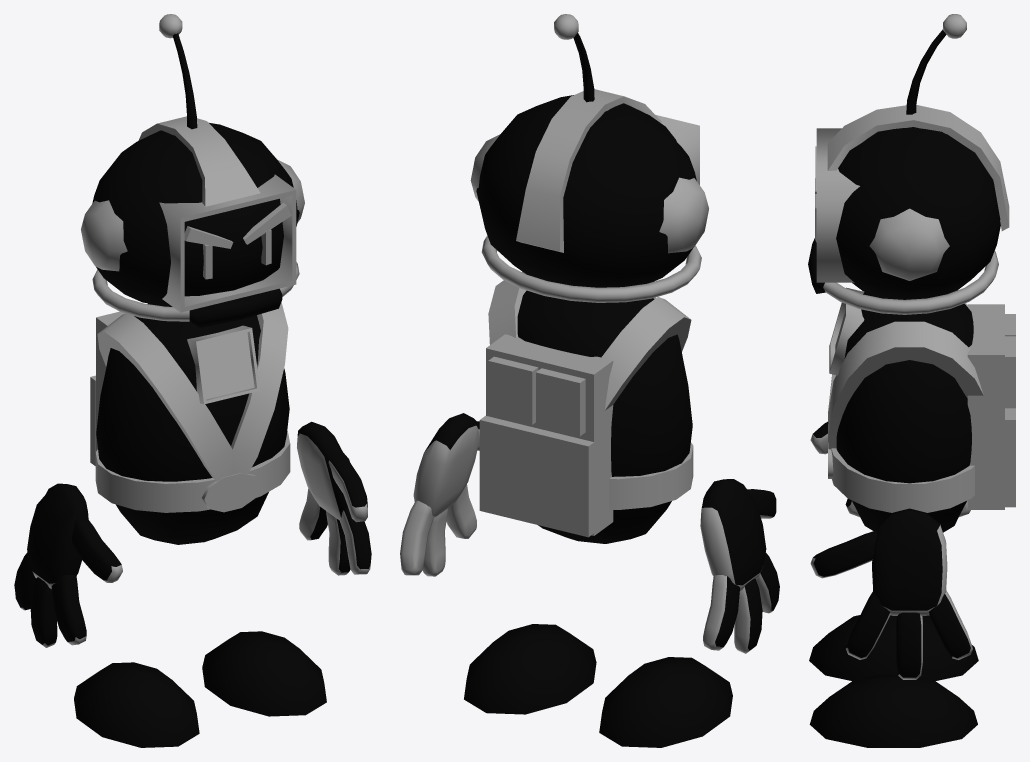
The model's file is Bman.obj.
3 renders of one model, left to right at view 1: azimuth 30°, elevation 25°; view 2: azimuth 150°, elevation 25°; view 3: azimuth 270°, elevation 25°, orthographic. The views are drawn at different scales.
Parts seen in each view (by area): view 1: BM_BODY, BM_Head, R_Hand, R_Foot, L_Foot, L_Hand, Object01; view 2: BM_BODY, BM_Head, R_Hand, R_Foot, L_Foot, L_Hand, Object01; view 3: BM_BODY, BM_Head, L_Hand, L_Foot, R_Foot, Object01, R_Hand.
Boxes of the visible parts, <box> form: BM_BODY: <box>90,302,290,544</box>; BM_Head: <box>81,116,304,327</box>; R_Hand: <box>14,483,122,647</box>; R_Foot: <box>74,662,199,747</box>; L_Foot: <box>202,631,326,716</box>; L_Hand: <box>297,421,371,575</box>; Object01: <box>159,14,197,129</box>; BM_BODY: <box>479,271,693,543</box>; BM_Head: <box>470,89,708,302</box>; R_Hand: <box>700,479,779,653</box>; R_Foot: <box>599,657,732,747</box>; L_Foot: <box>464,624,596,714</box>; L_Hand: <box>400,413,479,576</box>; Object01: <box>554,14,594,102</box>; BM_BODY: <box>828,287,1015,532</box>; BM_Head: <box>808,105,1009,314</box>; L_Hand: <box>810,508,972,679</box>; L_Foot: <box>809,675,977,747</box>; R_Foot: <box>809,615,978,680</box>; Object01: <box>906,14,966,114</box>; R_Hand: <box>810,421,970,516</box>.
Bounding box in the file's own units: 10.19 × 20.49 × 5.7.
